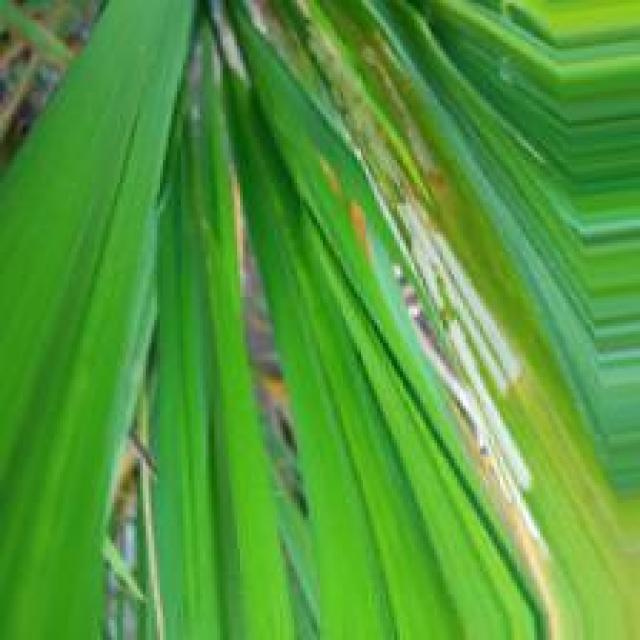Rice_Hispa: (405, 186, 540, 559)
